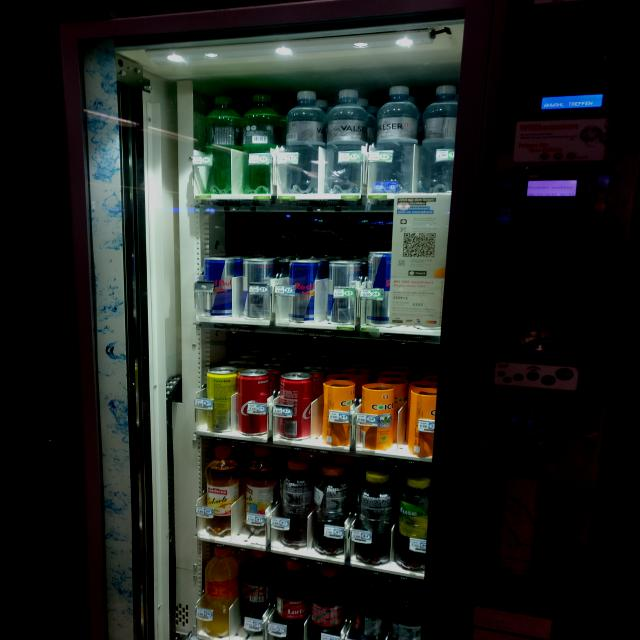c-swiss_dosenabisicetea__33__9120025930135: (359, 381, 398, 452), (318, 377, 356, 447), (408, 384, 438, 457)
coke__dose_33__54491472: (275, 371, 311, 436), (237, 368, 270, 437)
coke__flasche_50__54491472: (240, 548, 276, 638), (273, 559, 310, 640), (312, 565, 346, 640)
coke_zero_flasche_50__5449000131836: (352, 570, 388, 640), (390, 582, 423, 640)
fanta___50__40822938: (200, 542, 244, 637)
fuse_lemon__50__5449000235947: (352, 471, 398, 567), (398, 473, 432, 573)
fuse_lemon_dose_33__5449000235947: (207, 367, 234, 432)
fuse_peach__50__5449000236623: (277, 457, 316, 552), (313, 465, 351, 555)
ramseier_schorle__50__7610057012456: (203, 442, 242, 538), (241, 445, 276, 536)
redbull___33__90162909: (364, 248, 396, 330), (240, 256, 277, 324), (328, 258, 362, 324), (200, 257, 237, 314), (286, 258, 318, 319)
valser_classic__50__76404160: (198, 94, 245, 192), (240, 90, 277, 190)
valser_still__50__7610335002575: (372, 82, 418, 195), (280, 86, 324, 192), (325, 86, 367, 195), (419, 82, 458, 190)
